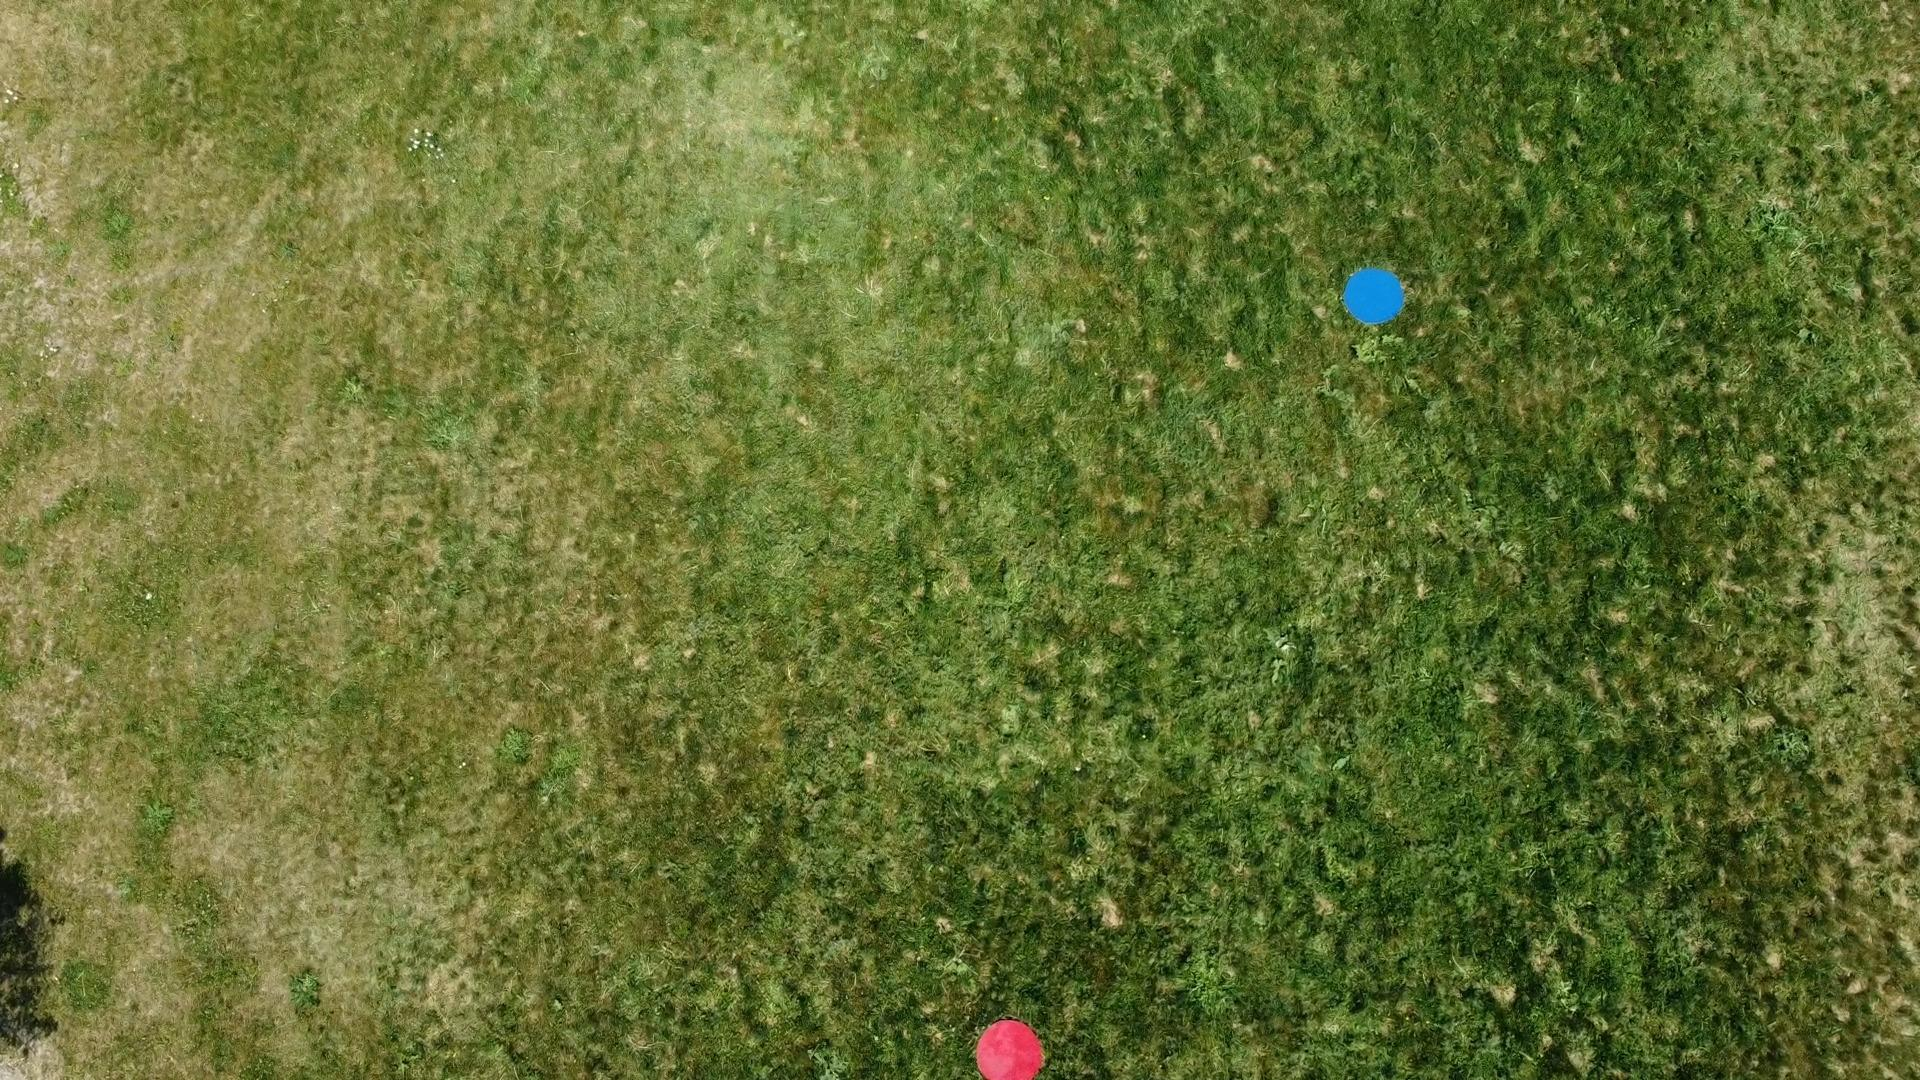Blue: (1340, 265, 1407, 326)
Red: (973, 1017, 1044, 1080)
